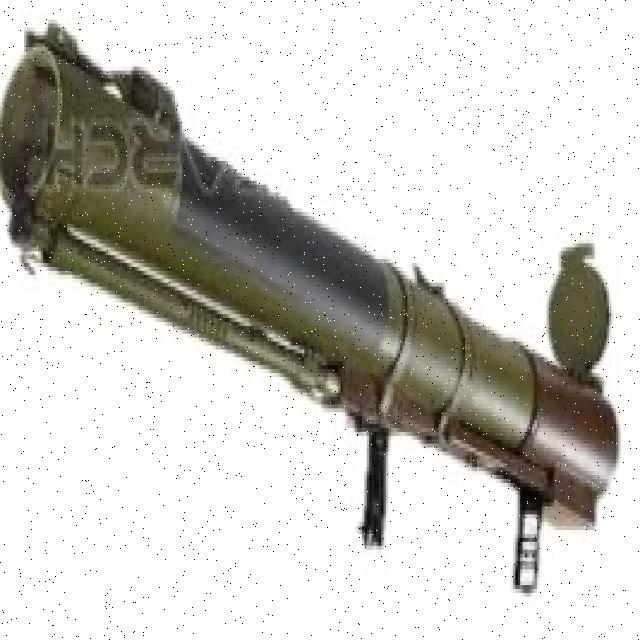bazooka: (1, 13, 619, 606)
